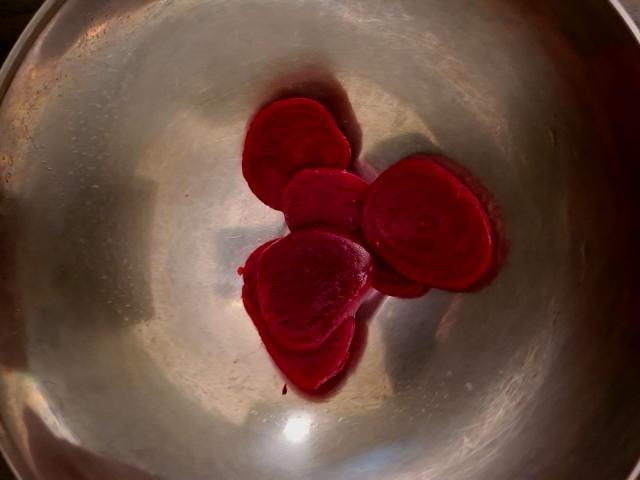kichen waste: (242, 97, 494, 388)
